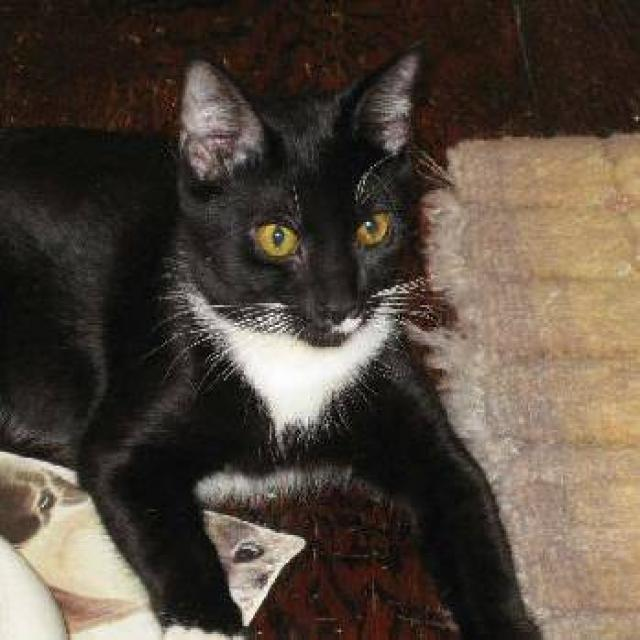cat: (0, 39, 546, 638)
